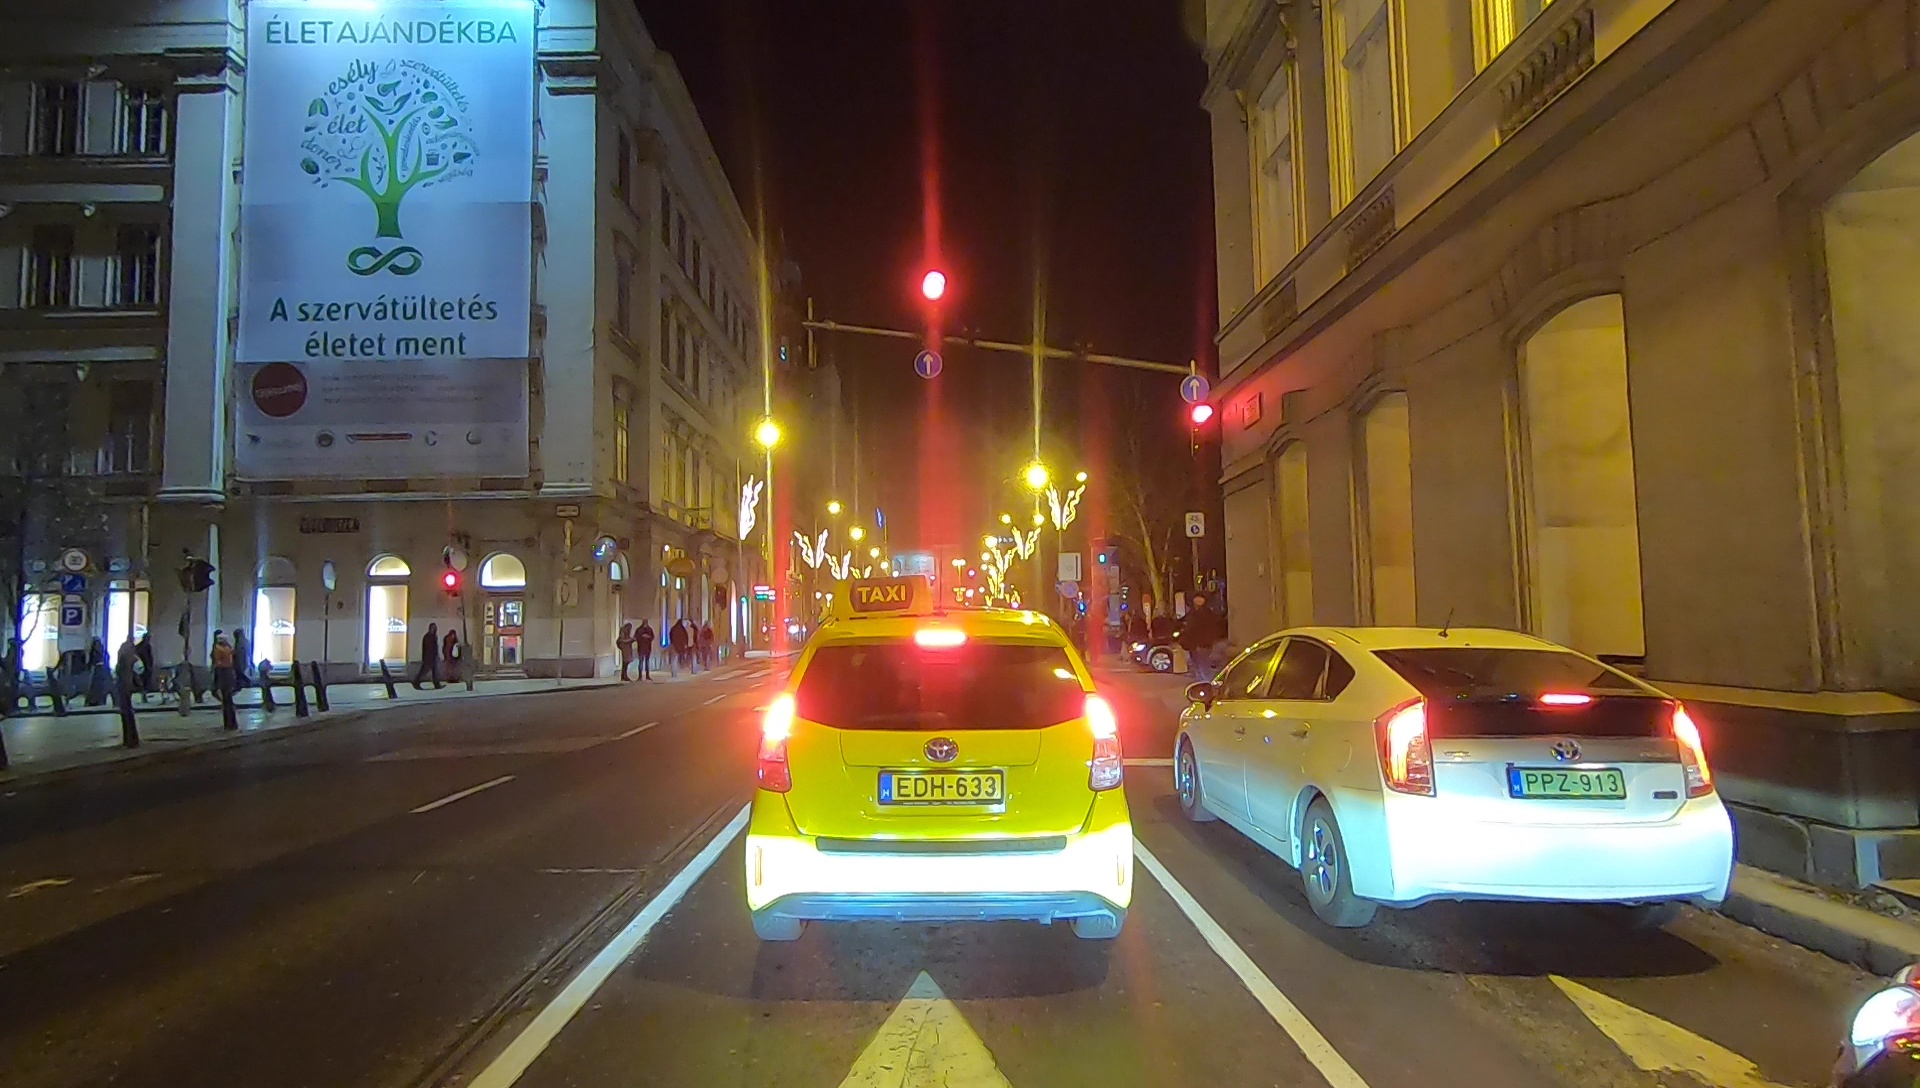person: (1175, 584, 1217, 702), (114, 630, 141, 704), (415, 624, 443, 693), (441, 624, 465, 684), (228, 628, 252, 689), (614, 617, 634, 684), (691, 615, 714, 669), (634, 619, 652, 687), (208, 624, 226, 691), (138, 637, 158, 693), (669, 619, 686, 671)
